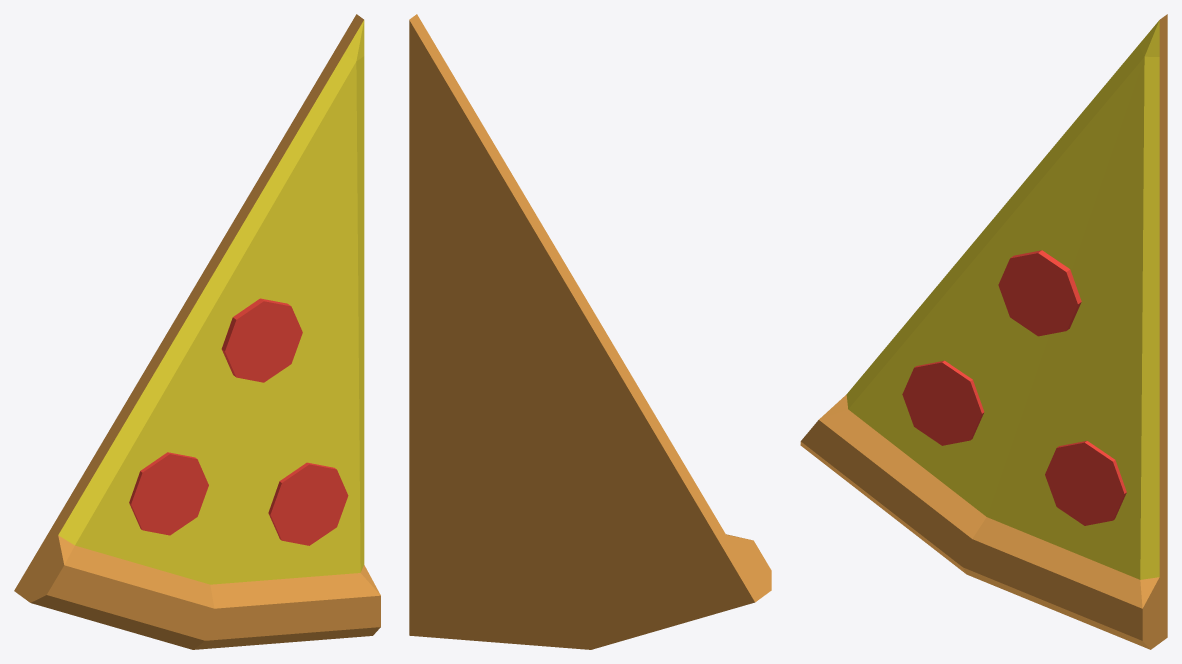
File: PizzaSlice_01.gltf
3 views of the same model, side by side, from view 1: azimuth 30°, elevation 25°; view 2: azimuth 150°, elevation 25°; view 3: azimuth 330°, elevation 25° (orthographic). The views are drawn at different scales.
Parts seen in each view (by area): view 1: node-0; view 2: node-0; view 3: node-0.
Part boxes in pixels (<box>): node-0: <box>14,14,380,649</box>; node-0: <box>409,14,771,649</box>; node-0: <box>800,14,1167,649</box>.
Bounding box in the file's own units: 121 × 205 × 14.9.
